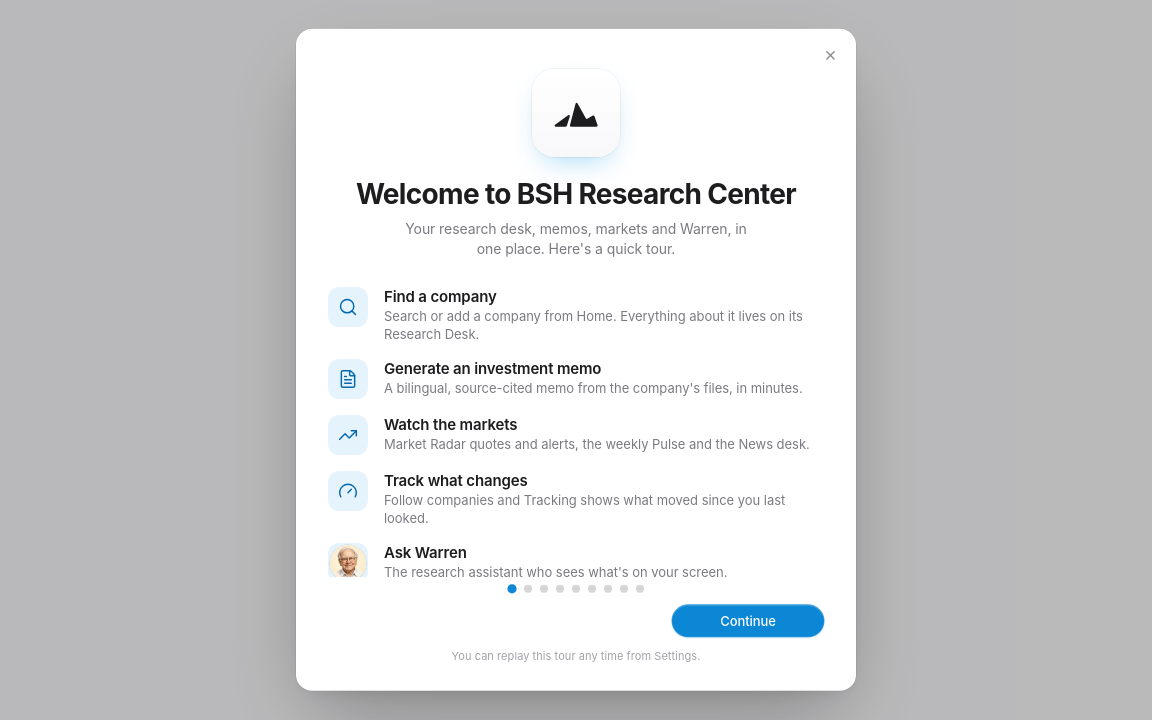
WelcomeTour look step › applies the design picked at once, with Bureau's desk colors while it is on
What coordinates should you click on to do the following:
click the 8th tab with class "welcome-tour-dot"
I would click on:
 (624, 589)
Its box is x1=620 y1=585 x2=628 y2=593.
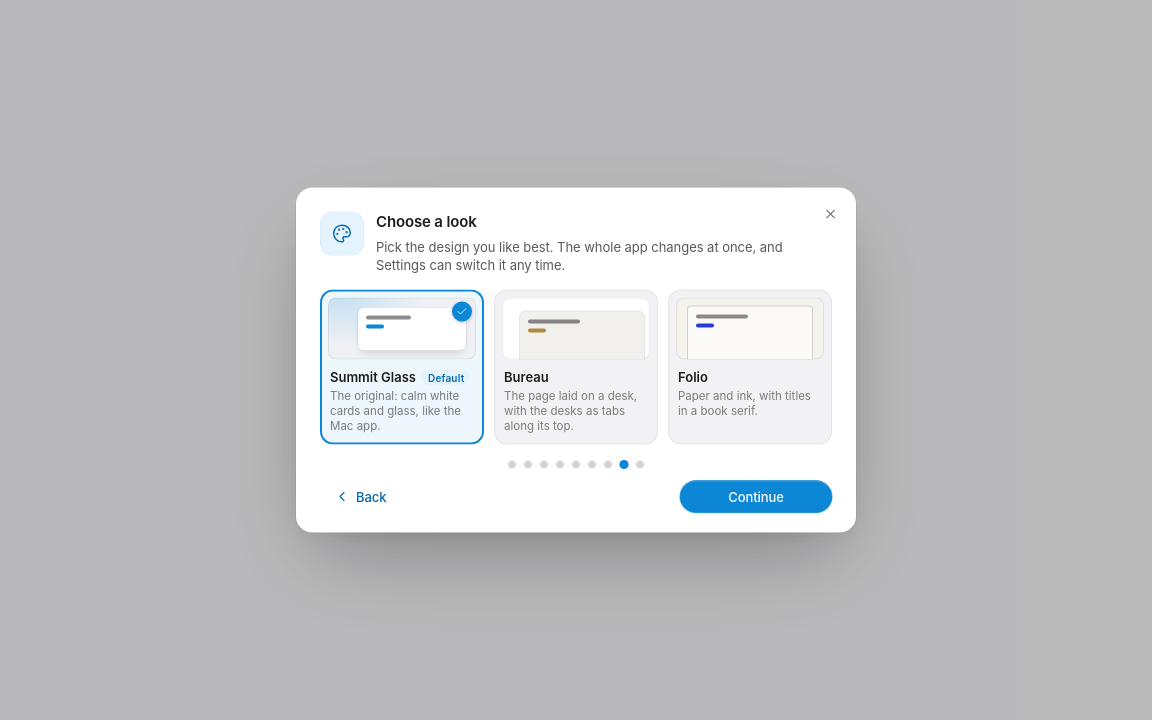
Now the heading with test id "welcome-tour-title" reads "Choose a look", box x1=376 y1=212 x2=477 y2=230
What coordinates should you click on to do the following:
click the radio button that starts with "Bureau"
I would click on:
 (576, 367)
Its box is x1=494 y1=290 x2=658 y2=444.
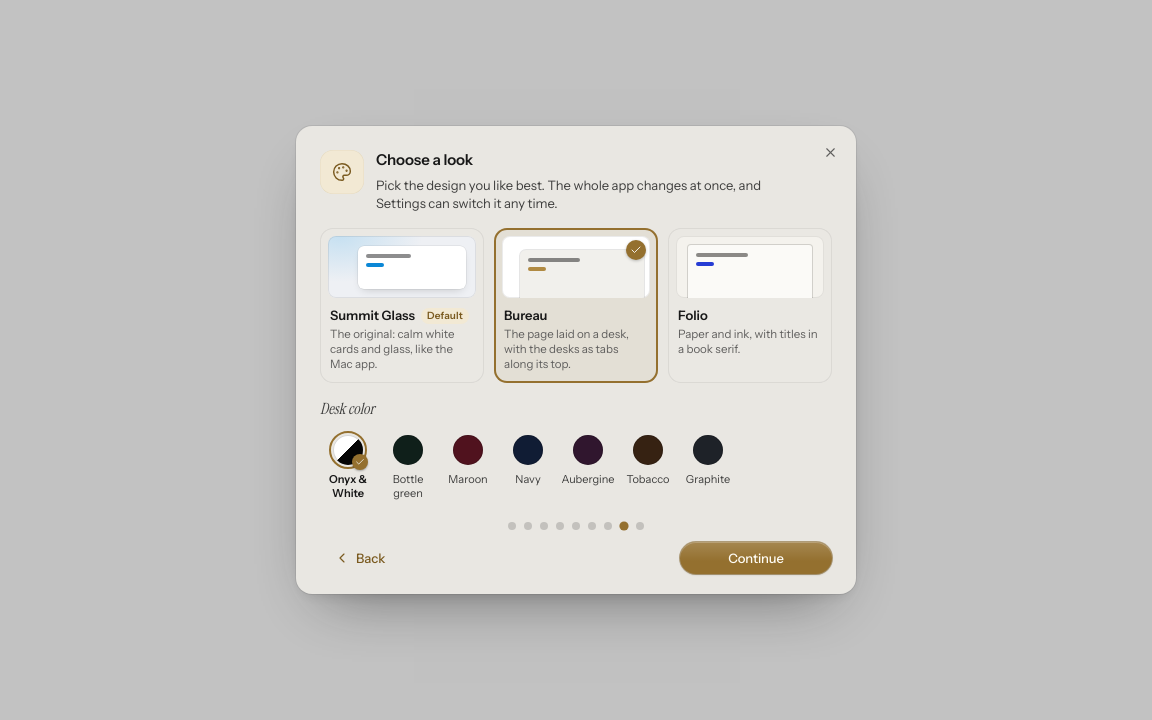
Now the element with test id "bureau-desk-picker" is shown, box x1=320 y1=399 x2=730 y2=500
What coordinates should you click on to do the following:
click the radio button labelled "Navy"
I would click on:
 (528, 460)
Its box is x1=513 y1=435 x2=543 y2=486.
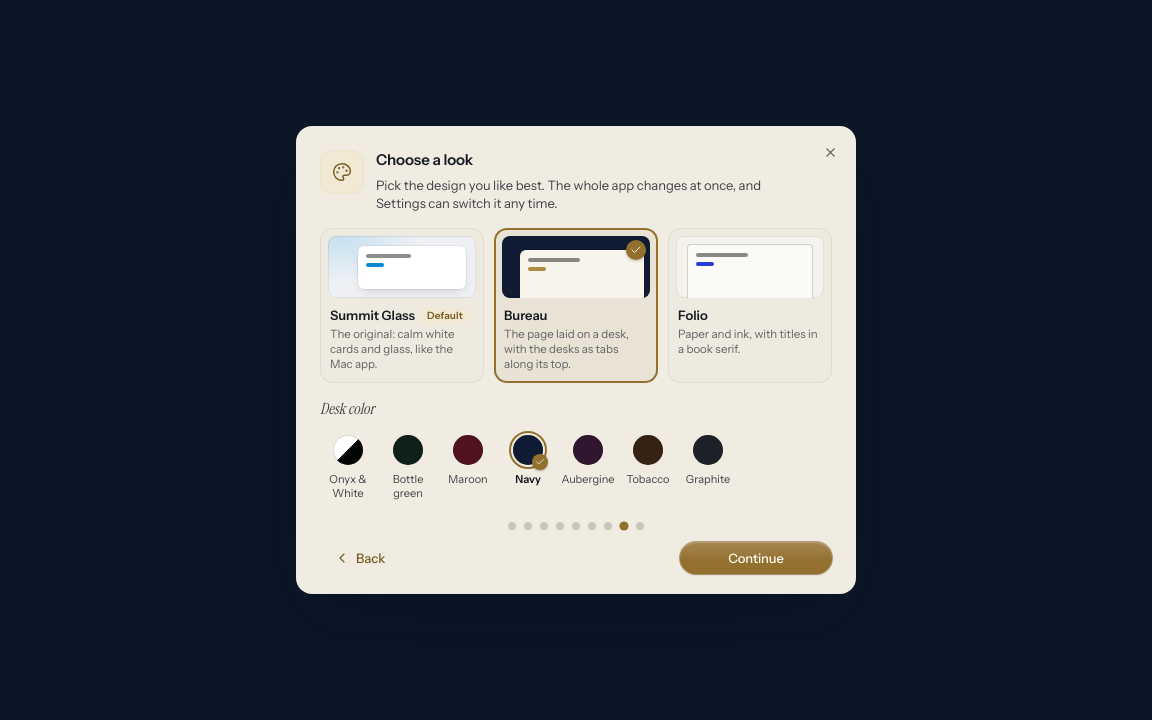
What coordinates should you click on to do the following:
click the radio button labelled "Folio Paper and ink, with titles in a book serif."
I would click on:
 (750, 306)
Its box is x1=668 y1=228 x2=832 y2=383.
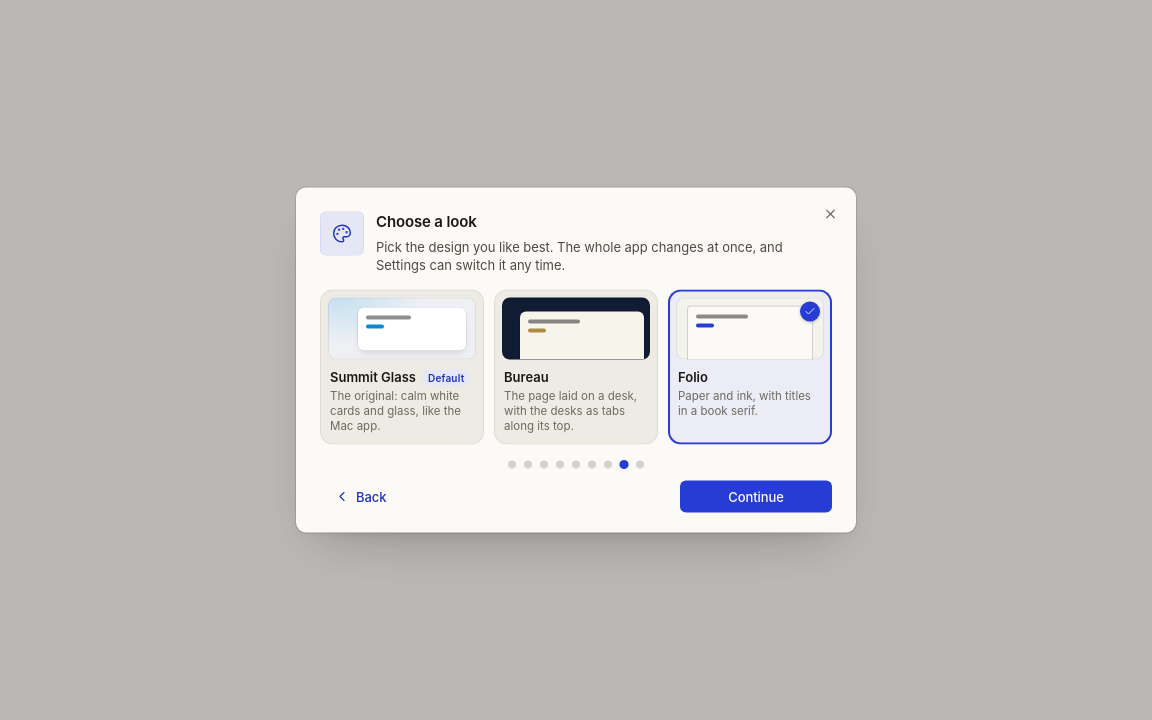
Now the element with test id "bureau-desk-picker" is gone
